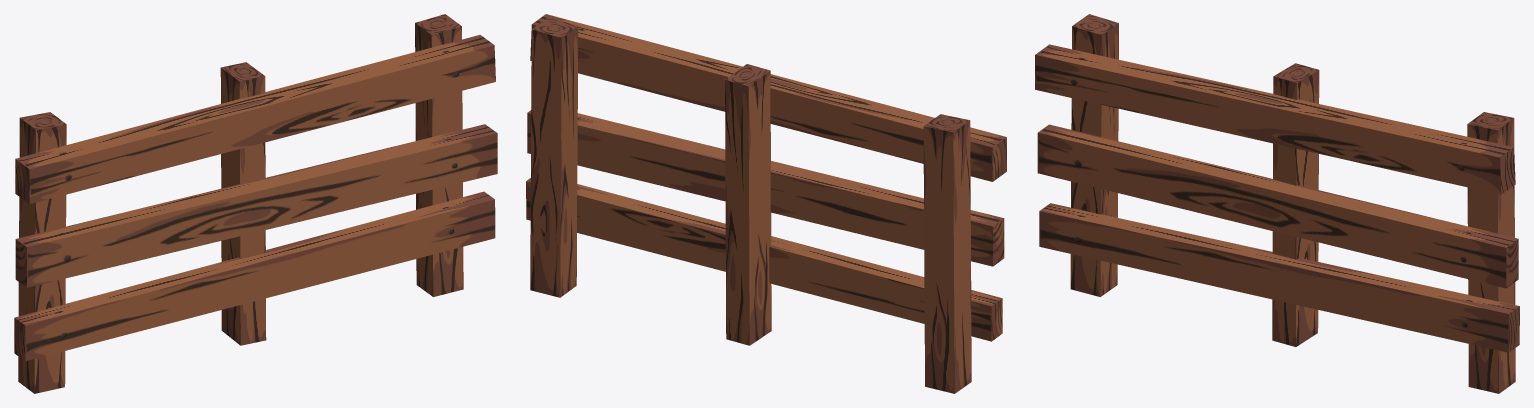
Rendered from farm_fence_02.fbx.
3 renders of one model, left to right at view 1: azimuth 30°, elevation 25°; view 2: azimuth 150°, elevation 25°; view 3: azimuth 330°, elevation 25°, orthographic.
Visible parts, largest first — view 1: farm:fence_02; view 2: farm:fence_02; view 3: farm:fence_02.
Boxes of the visible parts, left/top/right/bottom form: farm:fence_02: left=14, top=14, right=497, bottom=393; farm:fence_02: left=526, top=14, right=1006, bottom=393; farm:fence_02: left=1035, top=14, right=1519, bottom=393.
Bounding box in the file's own units: 1.66 × 0.8896 × 0.2121.
